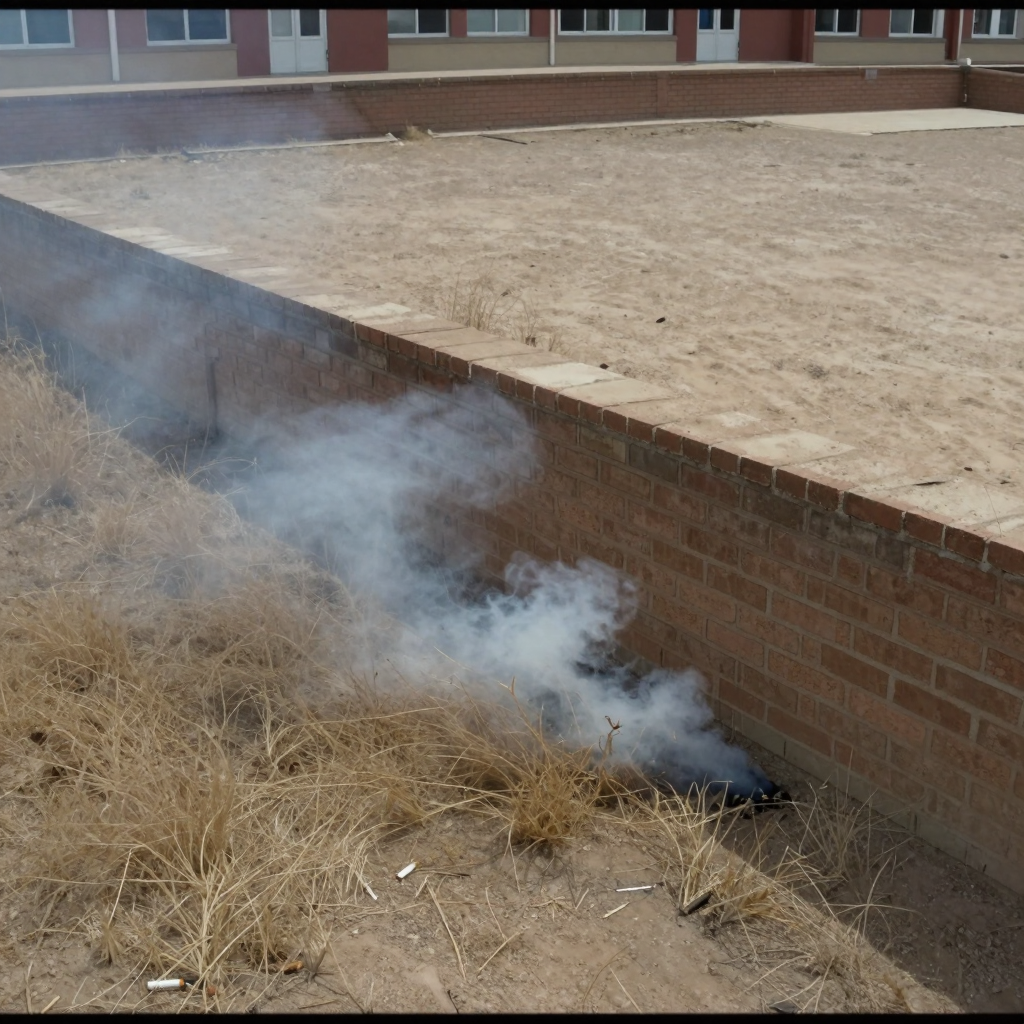Explosion: (139, 310, 800, 801)
